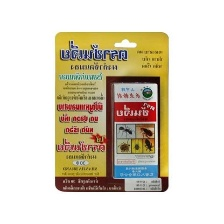book: (51, 29, 171, 193)
insecticide: (109, 80, 161, 181)
